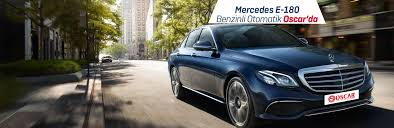car: (172, 21, 374, 124)
